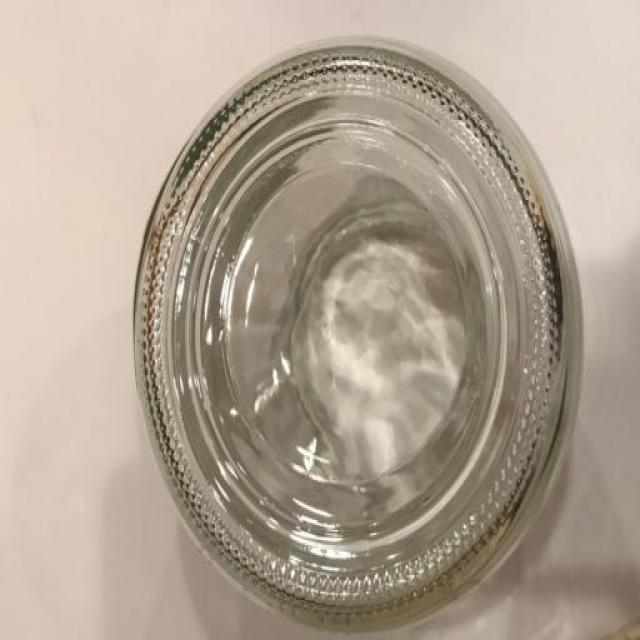glass: (125, 35, 598, 640)
